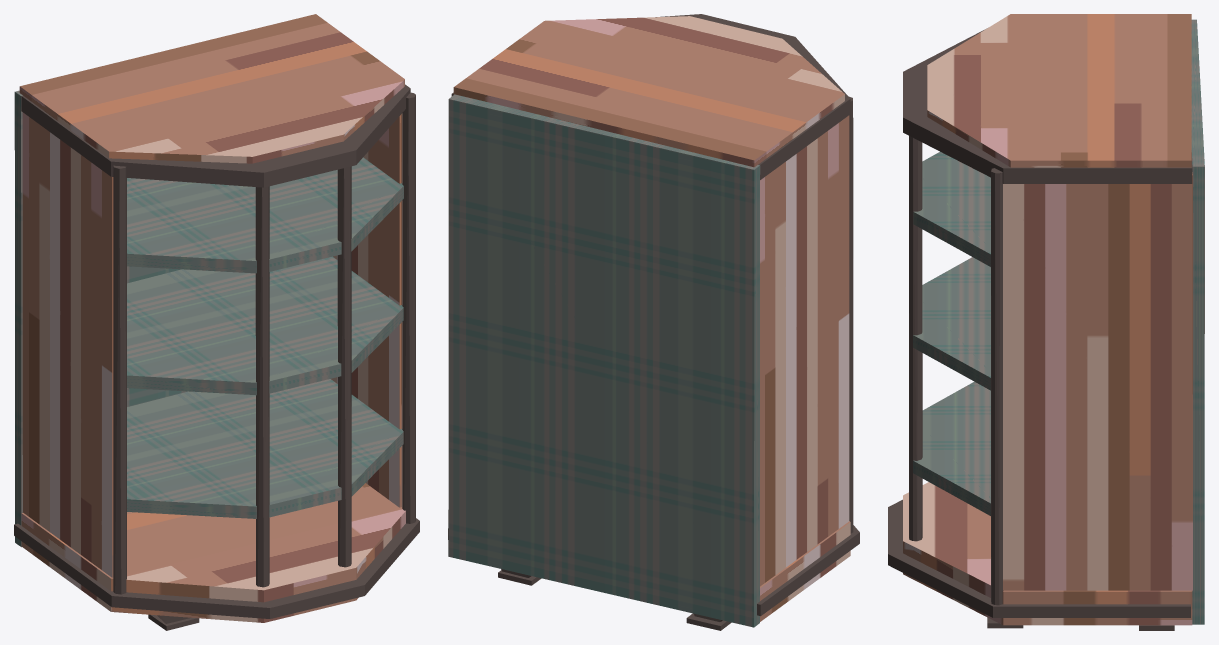
Rendered from cabinet.fbx.
3 views of the same model, side by side, from view 1: azimuth 30°, elevation 25°; view 2: azimuth 150°, elevation 25°; view 3: azimuth 270°, elevation 25° (orthographic).
Visible parts, largest first — view 1: Cube, Cube.006, Cube.012, Cube.013, Cube.001, Cube.011, Cube.002, Cube.004, Cube.005, Cube.009, Cube.010, Cube.008 (+2 smaller); view 2: Cube.003, Cube.006, Cube, Cube.004, Cube.009, Cube.001, Cube.005; view 3: Cube.002, Cube.006, Cube.001, Cube.012, Cube.013, Cube.004, Cube.003, Cube.011, Cube.005, Cube.010, Cube.007.
Boxes of the visible parts, x1,y1,x2,y2 form: Cube: (22,112,113,577); Cube.006: (19,14,404,163); Cube.012: (127,379,403,518); Cube.013: (127,256,403,395); Cube.001: (21,483,405,622); Cube.011: (127,157,403,273); Cube.002: (331,113,402,507); Cube.004: (21,84,410,187); Cube.005: (14,518,419,618); Cube.009: (113,165,126,594); Cube.010: (402,92,415,523); Cube.008: (255,186,269,587); Cube.003: (448,94,760,627); Cube.006: (453,16,844,167); Cube: (760,115,849,586); Cube.004: (451,14,850,179); Cube.009: (848,96,853,533); Cube.001: (760,521,850,621); Cube.005: (448,525,859,616); Cube.002: (1003,172,1192,590); Cube.006: (927,14,1191,167); Cube.001: (903,482,1192,625); Cube.012: (913,381,990,515); Cube.013: (913,257,990,390); Cube.004: (903,28,1192,183); Cube.003: (1191,19,1204,624); Cube.011: (913,151,990,266); Cube.005: (888,499,1190,617); Cube.010: (991,168,1003,605); Cube.007: (909,136,922,541).
Size of the model in its own units: 569 by 848 by 499.
3 materials, 2 textured.
